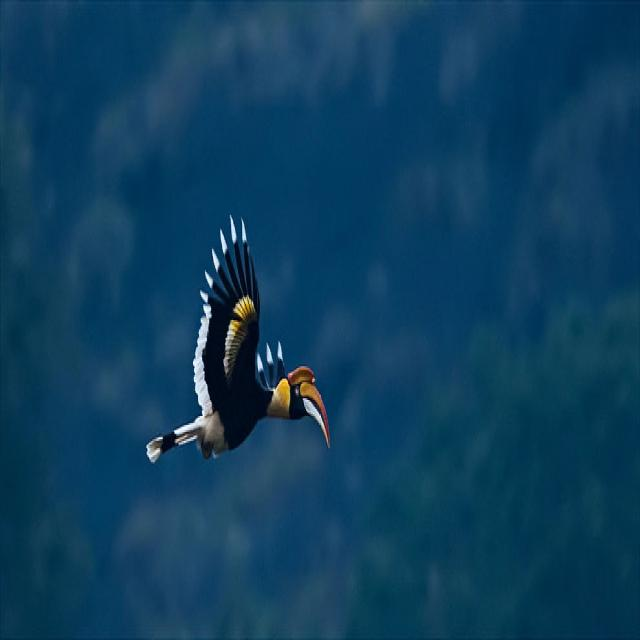Hornbill: (143, 215, 335, 502)
